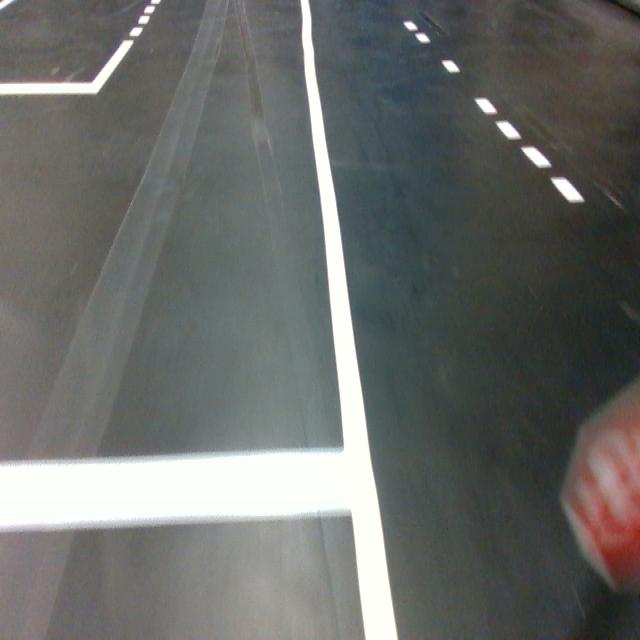stop-sign: (557, 372, 640, 599)
